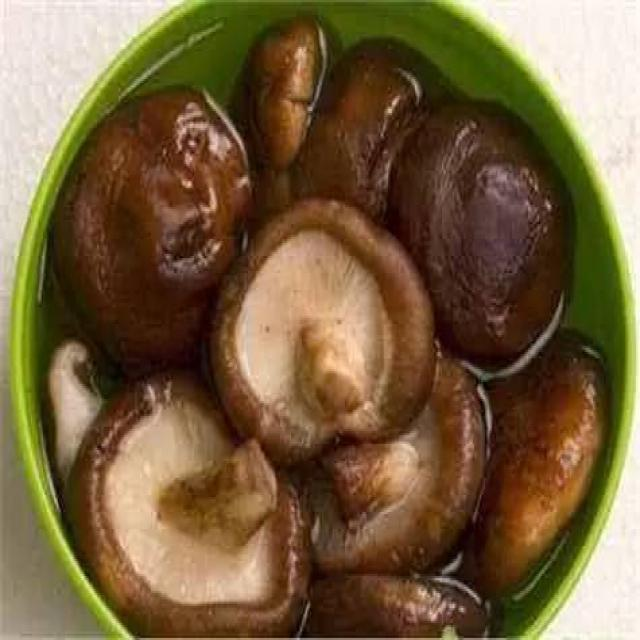Lentinus edodes: (72, 370, 310, 640), (215, 200, 438, 461), (50, 86, 248, 374), (402, 102, 582, 369), (297, 344, 488, 581), (468, 340, 608, 599), (312, 42, 435, 213), (234, 14, 333, 203)
